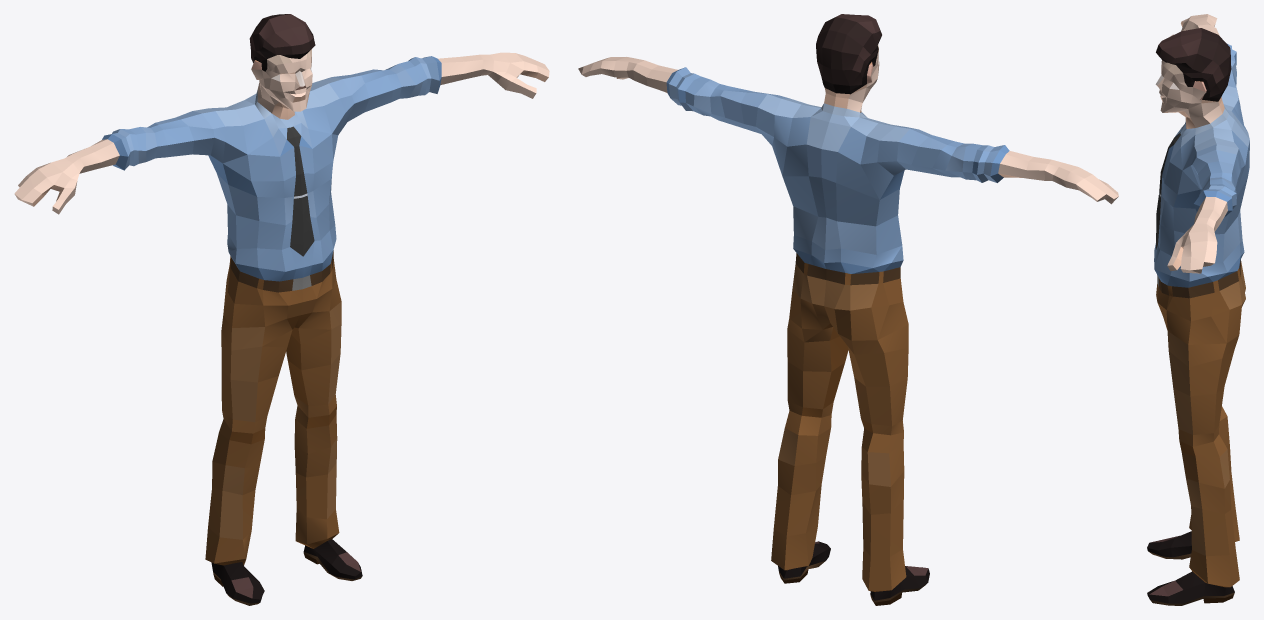
File: office_Male_A-model.obj
3 views of the same model, side by side, from view 1: azimuth 30°, elevation 25°; view 2: azimuth 150°, elevation 25°; view 3: azimuth 270°, elevation 25° (orthographic). The views are drawn at different scales.
Parts seen in each view (by area): view 1: office_Male_A; view 2: office_Male_A; view 3: office_Male_A.
Part boxes in pixels (left/top/right/bottom): office_Male_A: left=14, top=14, right=549, bottom=605; office_Male_A: left=578, top=14, right=1118, bottom=605; office_Male_A: left=1147, top=14, right=1249, bottom=605.
Size of the model in its own units: 168 by 169 by 28.97.
